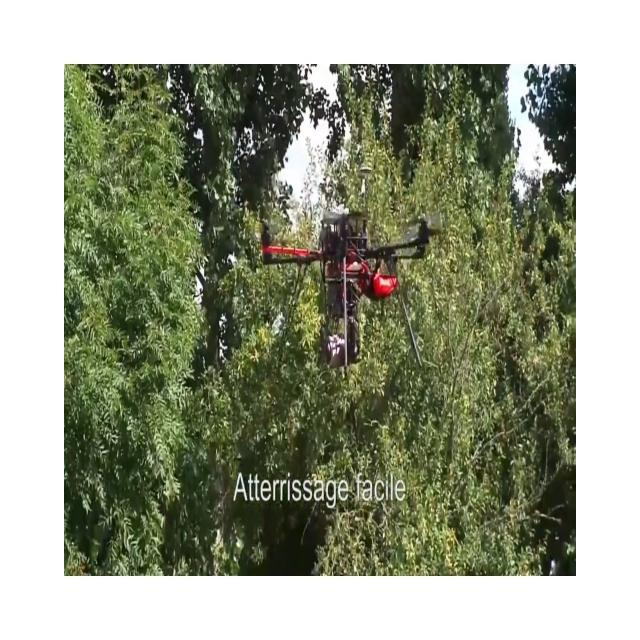drone: (256, 210, 442, 377)
